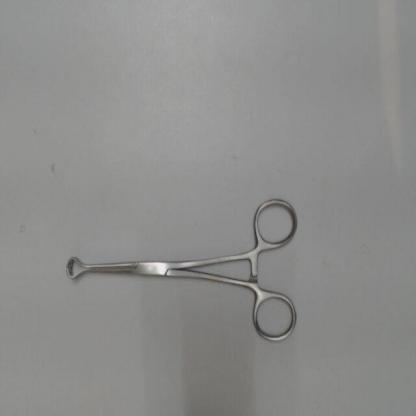Babcock Tissue Forceps: (63, 192, 303, 347)
